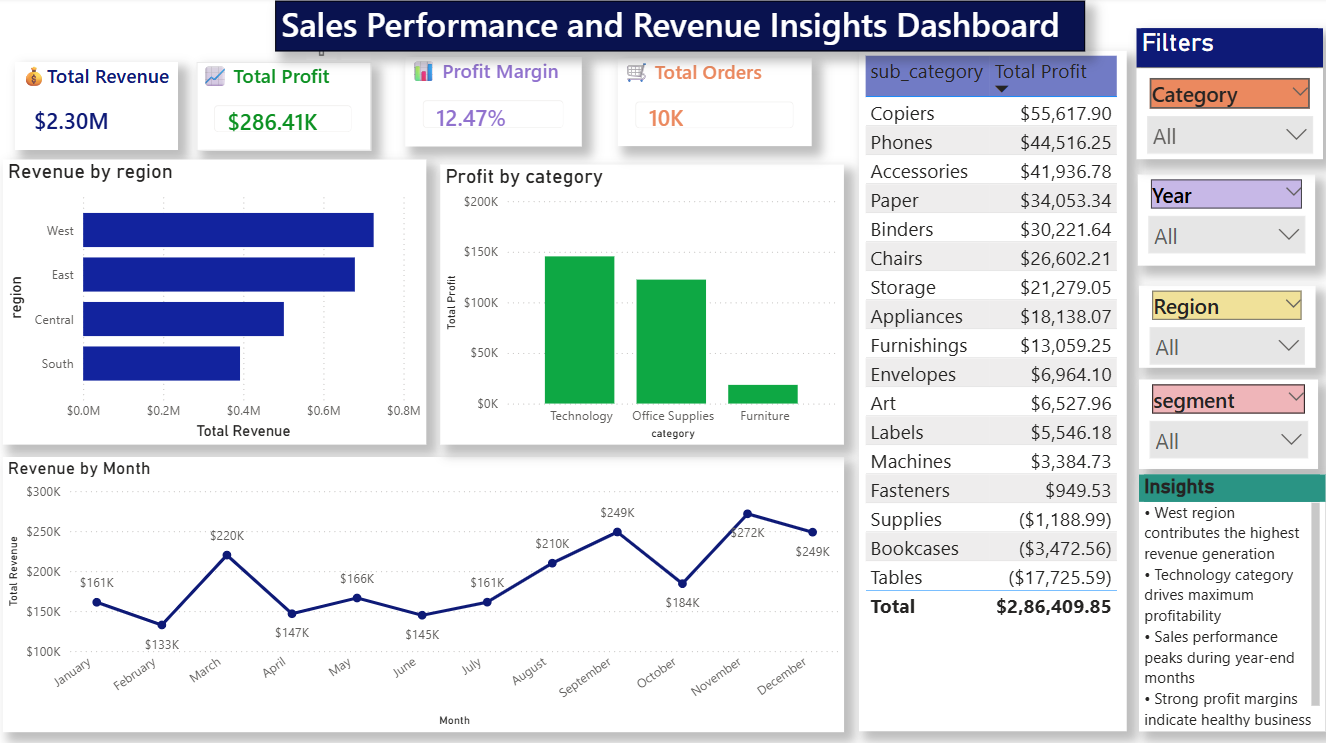

This screenshot's page, from the dashboard's own definition file:
{"tool":"powerbi","page":{"name":"Page 1","canvas":[1280,720],"ordinal":0},"visuals":[{"type":"cardVisual","title":"💰Total Revenue","fields":{"Data":["Orders.Total Revenue"]},"box":[15.8,63.3,157,85.2],"z":0},{"type":"cardVisual","title":"📈 Total Profit","fields":{"Data":["Orders.Total Profit"]},"box":[191.1,63.3,167.9,85.2],"z":1000},{"type":"cardVisual","title":" 📊Profit Margin","fields":{"Data":["Orders.Profit Margin"]},"box":[391.9,58.4,170.4,86.4],"z":2000},{"type":"barChart","title":"Revenue by region","fields":{"Y":["Orders.Total Revenue"],"Category":["Orders.region"]},"box":[4,157,409,275],"z":3000},{"type":"lineChart","title":"Revenue by Month","fields":{"Y":["Orders.Total Revenue"],"Category":["Orders.order_date.Variation.Date Hierarchy.Month"]},"box":[3.7,443.9,812,265.4],"z":4000},{"type":"columnChart","title":"Profit by category","fields":{"Y":["Orders.Total Profit"],"Category":["Orders.category"]},"box":[426,161.6,389.3,270.7],"z":5000},{"type":"tableEx","fields":{"Values":["Orders.sub_category","Orders.Total Profit"]},"box":[830,52.5,258.1,656.9],"z":6000},{"type":"slicer","fields":{"Values":["Orders.region"]},"box":[1100.5,278.6,170.2,79.6],"z":7000},{"type":"slicer","fields":{"Values":["Orders.year"]},"box":[1099.1,171.5,171.5,87.8],"z":8000},{"type":"slicer","title":"Filters ","fields":{"Values":["Orders.category"]},"box":[1098,30,180,126],"z":9000},{"type":"slicer","fields":{"Values":["Orders.segment"]},"box":[1100.5,369.1,172.9,86.4],"z":10000},{"type":"textbox","title":"Insights","box":[1100.5,461.1,179.8,248.4],"z":11000},{"type":"cardVisual","title":"🛒 Total Orders","fields":{"Data":["Orders.Total Orders"]},"box":[597.5,59.6,187.4,85.2],"z":12000},{"type":"textbox","title":"Sales Performance and Revenue Insights Dashboard","box":[266.5,3.7,781.3,48.7],"z":13000}]}

Visuals, with their boxes in screenshot pixels (x1, y1, x2, y2), scaled from the page's 1280x720 canvas onto the 1326x743 screenshot:
"💰Total Revenue" cardVisual: {"left": 16, "top": 65, "right": 179, "bottom": 153}
"📈 Total Profit" cardVisual: {"left": 198, "top": 65, "right": 372, "bottom": 153}
" 📊Profit Margin" cardVisual: {"left": 406, "top": 60, "right": 583, "bottom": 149}
"Revenue by region" barChart: {"left": 4, "top": 162, "right": 428, "bottom": 446}
"Revenue by Month" lineChart: {"left": 4, "top": 458, "right": 845, "bottom": 732}
"Profit by category" columnChart: {"left": 441, "top": 167, "right": 845, "bottom": 446}
tableEx - Orders.sub_category x Orders.Total Profit: {"left": 860, "top": 54, "right": 1127, "bottom": 732}
slicer - Orders.region: {"left": 1140, "top": 287, "right": 1316, "bottom": 370}
slicer - Orders.year: {"left": 1139, "top": 177, "right": 1316, "bottom": 268}
"Filters " slicer: {"left": 1137, "top": 31, "right": 1324, "bottom": 161}
slicer - Orders.segment: {"left": 1140, "top": 381, "right": 1319, "bottom": 470}
"Insights" textbox: {"left": 1140, "top": 476, "right": 1325, "bottom": 732}
"🛒 Total Orders" cardVisual: {"left": 619, "top": 62, "right": 813, "bottom": 149}
"Sales Performance and Revenue Insights Dashboard" textbox: {"left": 276, "top": 4, "right": 1085, "bottom": 54}
